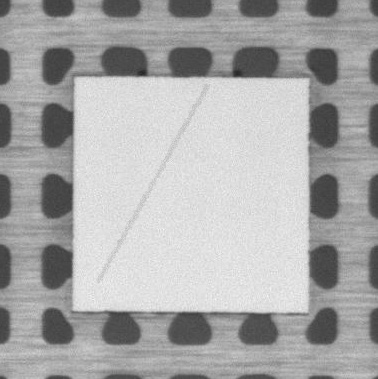DIE_CRACK: (98, 86, 206, 283)
